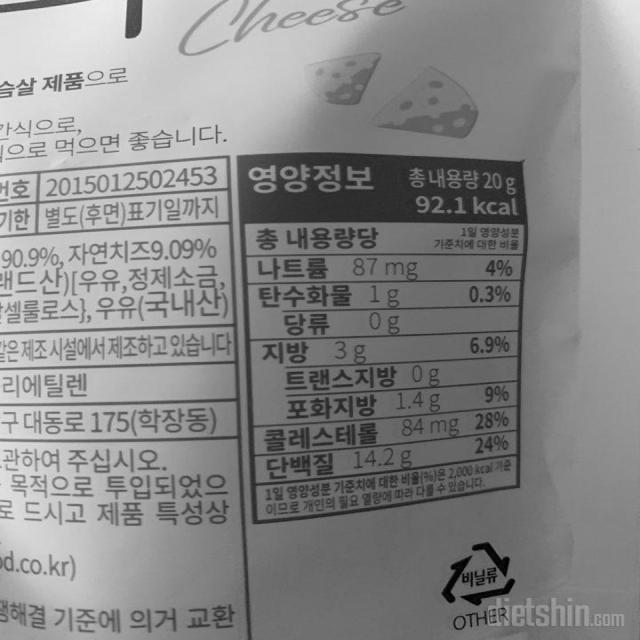Nutrition Label: (227, 143, 542, 530)
